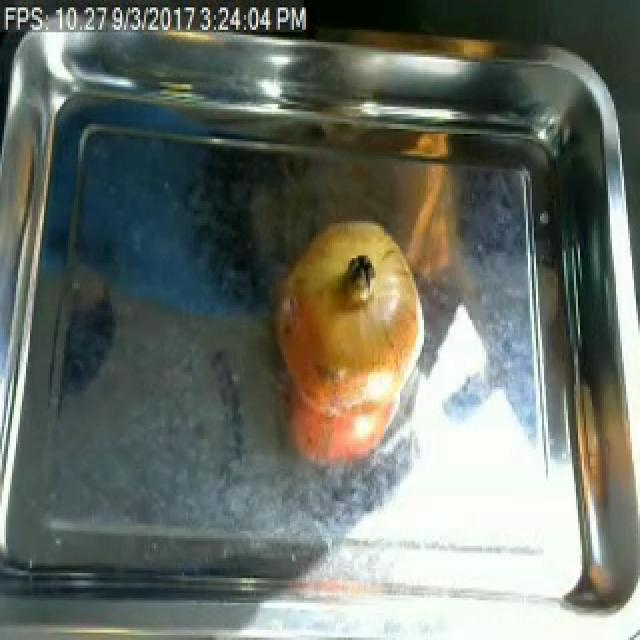fruit: (260, 206, 436, 436)
